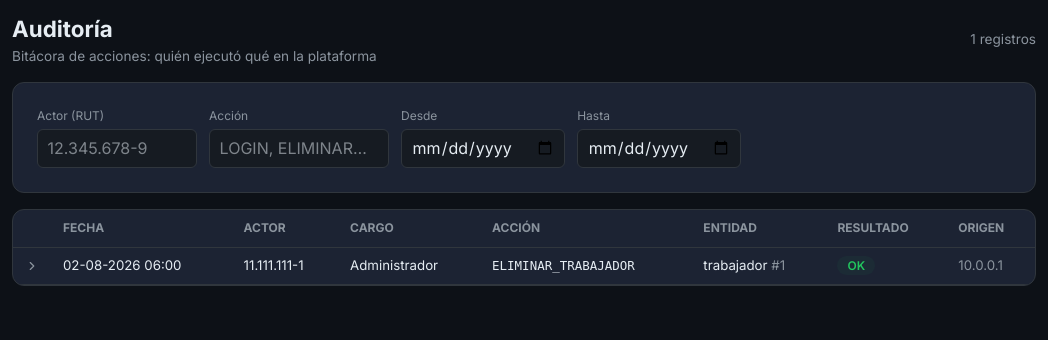
Test: AuditoriaClient - filtros al servidor y detalle expandible › una fila con detalle se expande al clickearla y muestra el JSON
Expected: the text "{\"ruta\":\"/api/trabajador/\",\"query\":\"page=0\"}" is not shown
Click the text "ELIMINAR_TRABAJADOR".
click(586, 266)  # box [480,248,691,284]
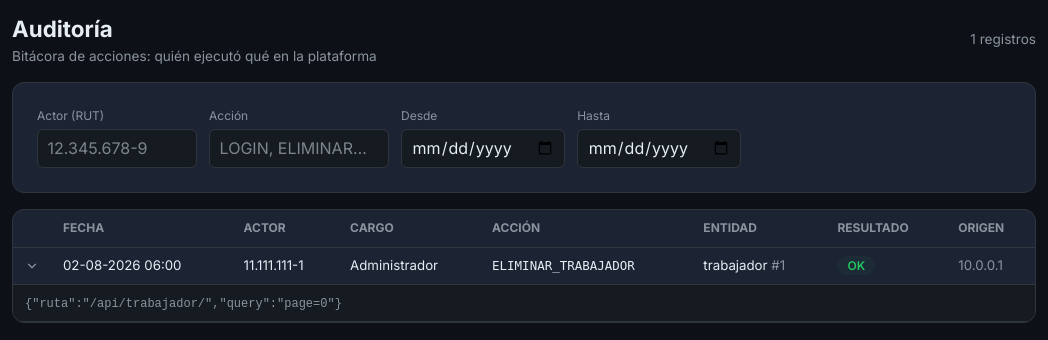
Result: the text "{\"ruta\":\"/api/trabajador/\",\"query\":\"page=0\"}" is shown at [25,297,342,311]
